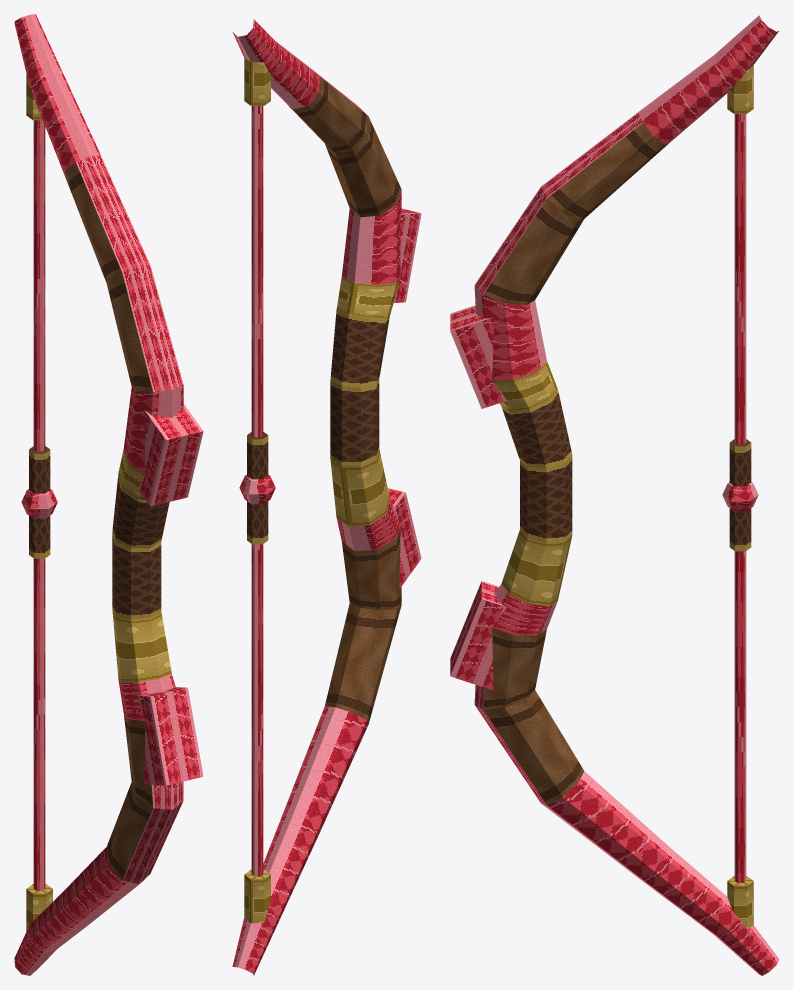
Rendered from arco_de_rubi.glb.
3 views of the same model, side by side, from view 1: azimuth 30°, elevation 25°; view 2: azimuth 150°, elevation 25°; view 3: azimuth 270°, elevation 25° (orthographic).
Visible parts, largest first — view 1: arco_de_rubi; view 2: arco_de_rubi; view 3: arco_de_rubi.
Part boxes in pixels (<box>): arco_de_rubi: <box>14,14,203,975</box>; arco_de_rubi: <box>232,19,421,975</box>; arco_de_rubi: <box>450,15,779,975</box>.
Bounding box in the file's own units: 0.07 × 1.28 × 0.3981.
1 material, 1 textured.
